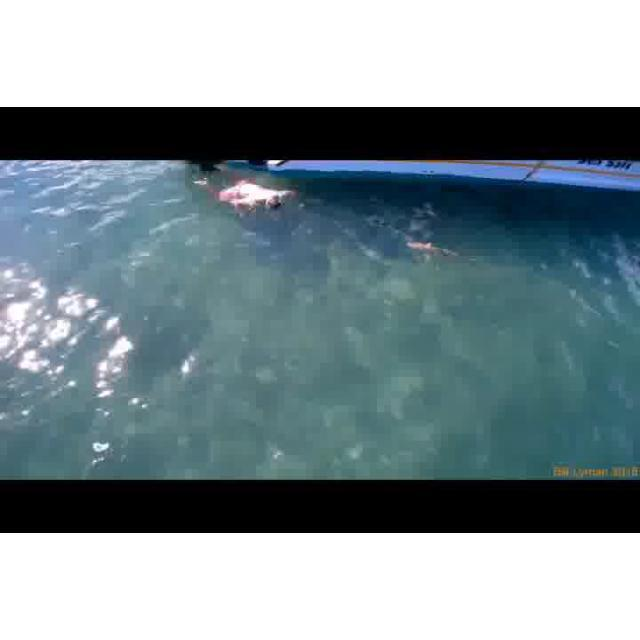human: (211, 175, 292, 222)
